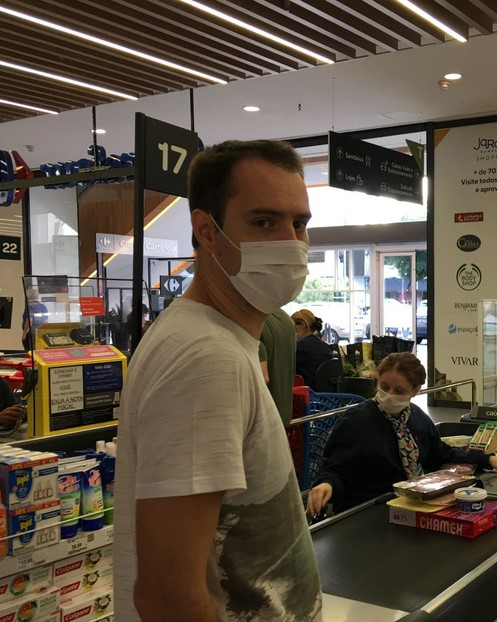face_with_mask: (184, 137, 313, 321), (375, 351, 425, 417)
